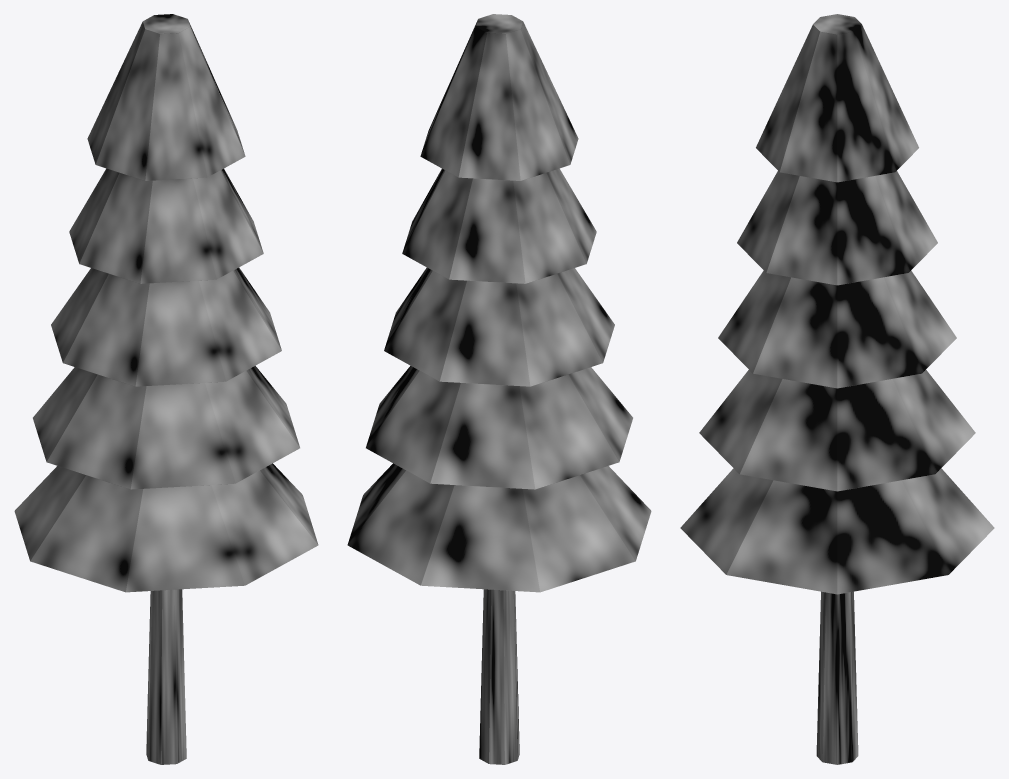
File: tree_pine_medium.glb
The picture shows the model from 3 angles, left to right: view 1: azimuth 30°, elevation 25°; view 2: azimuth 150°, elevation 25°; view 3: azimuth 270°, elevation 25°; orthographic projection.
Visible parts, largest first — view 1: tree_pine_medium; view 2: tree_pine_medium; view 3: tree_pine_medium.
Part boxes in pixels (<box>): tree_pine_medium: <box>14,14,318,764</box>; tree_pine_medium: <box>347,14,651,764</box>; tree_pine_medium: <box>680,14,994,764</box>.
Size of the model in its own units: 3 by 7.7 by 3.
1 material, 1 textured.
